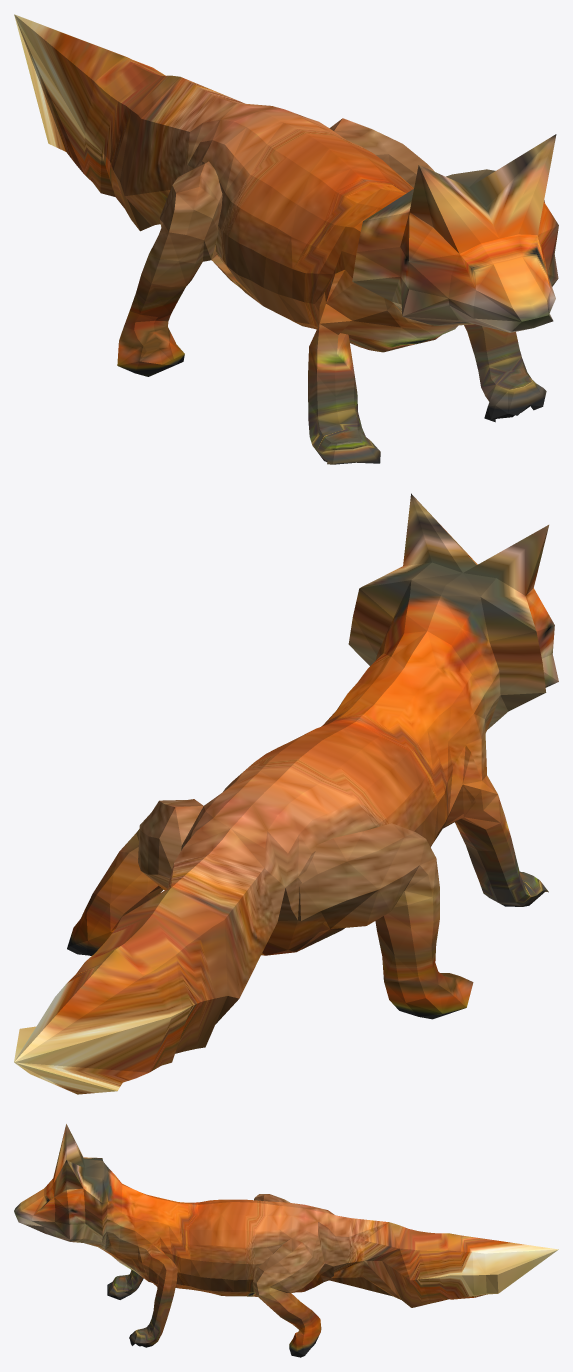
File: foxModel.FBX
3 renders of one model, top to bottom at view 1: azimuth 30°, elevation 25°; view 2: azimuth 150°, elevation 25°; view 3: azimuth 270°, elevation 25°, orthographic. The views are drawn at different scales.
Visible parts, largest first — view 1: objFox; view 2: objFox; view 3: objFox.
Boxes of the visible parts, x1,y1,x2,y2 form: objFox: [14, 14, 558, 464]; objFox: [14, 493, 558, 1094]; objFox: [14, 1124, 558, 1357].
Size of the model in its own units: 25.18 by 22.63 by 62.3.
1 material, 1 textured.
